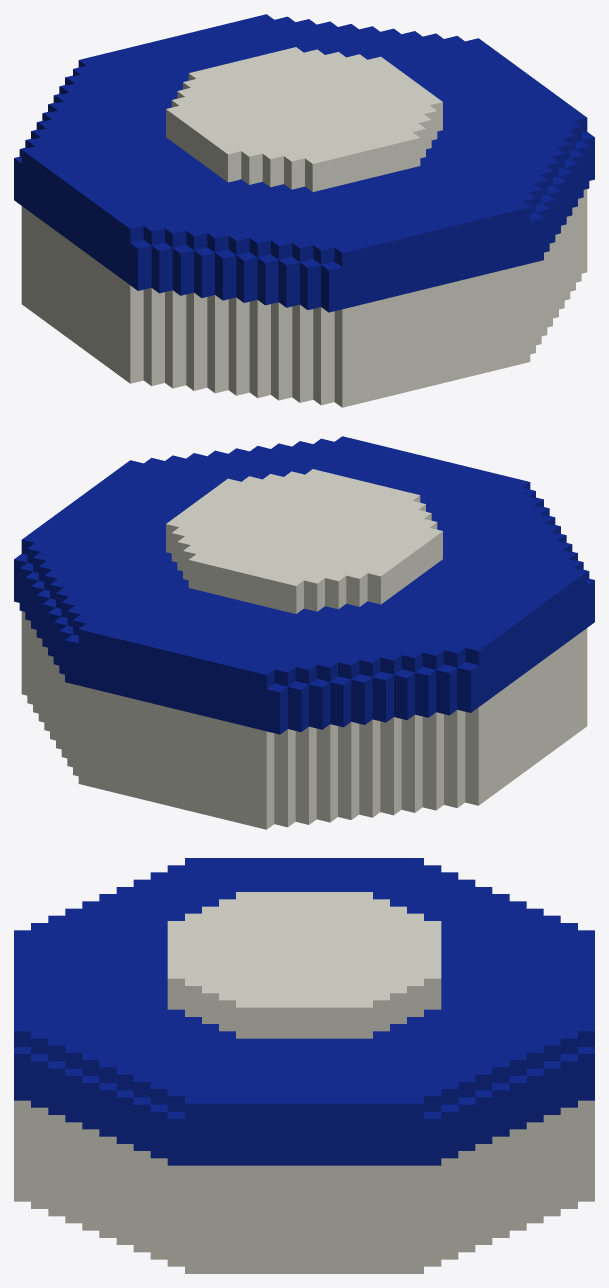
File: nicotine_pouch.glb
The picture shows the model from 3 angles, top to bottom: view 1: azimuth 30°, elevation 25°; view 2: azimuth 150°, elevation 25°; view 3: azimuth 270°, elevation 25°; orthographic projection. The views are drawn at different scales.
Visible parts, largest first — view 1: nicotine_pouch:compound; view 2: nicotine_pouch:compound; view 3: nicotine_pouch:compound.
Boxes of the visible parts, box(x1,y1,x2,y2) form: nicotine_pouch:compound: box(14, 14, 594, 407); nicotine_pouch:compound: box(14, 436, 594, 829); nicotine_pouch:compound: box(14, 858, 594, 1273).
Bounding box in the file's own units: 0.068 × 0.026 × 0.068.
